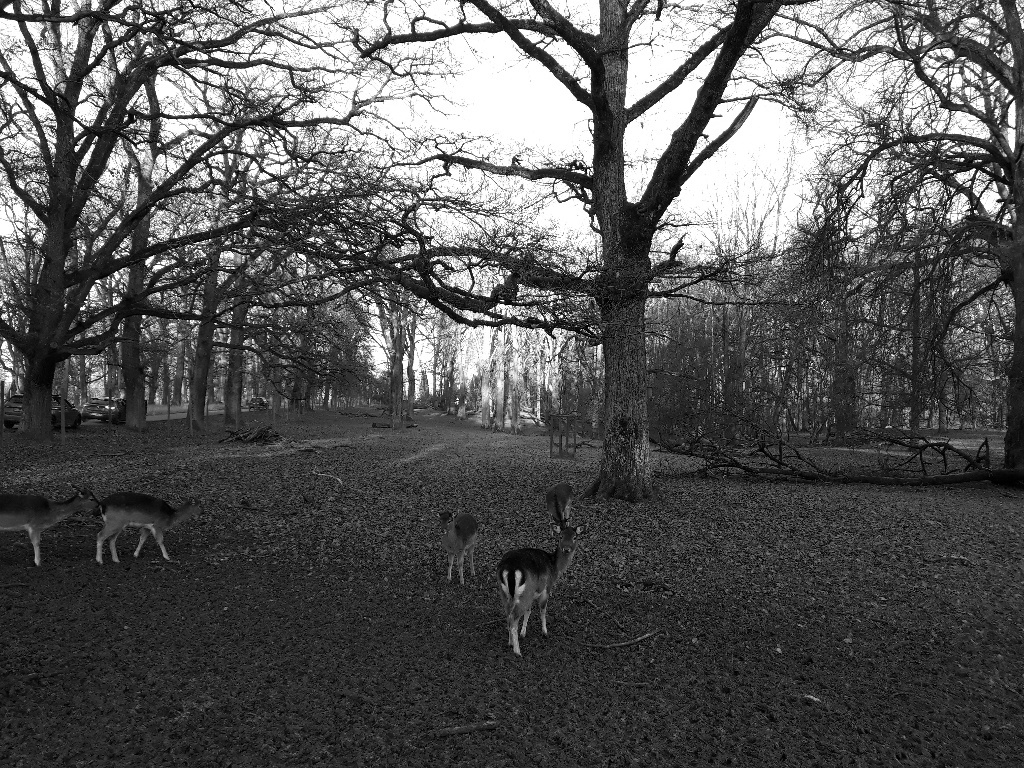Deer: (497, 526, 581, 659), (92, 492, 210, 565), (1, 491, 91, 559), (437, 508, 485, 586)
